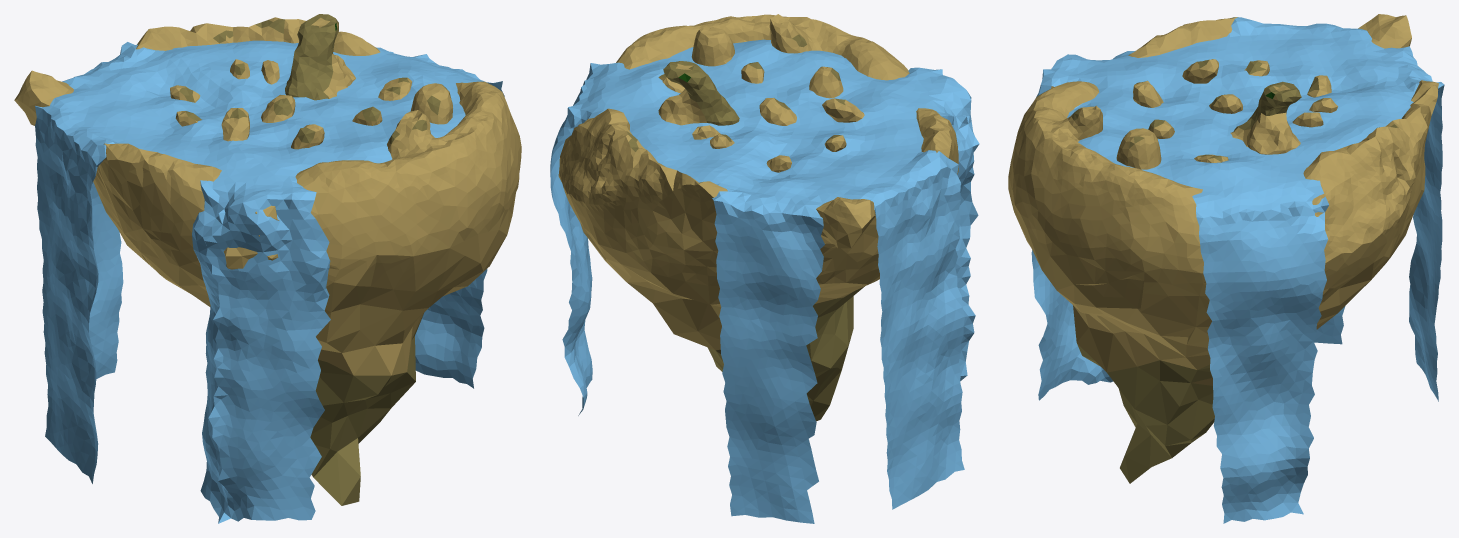
File: SandyShores.fbx
3 views of the same model, side by side, from view 1: azimuth 30°, elevation 25°; view 2: azimuth 150°, elevation 25°; view 3: azimuth 270°, elevation 25° (orthographic). The views are drawn at different scales.
Visible parts, largest first — view 1: Plane.001, Icosphere; view 2: Plane.001, Icosphere; view 3: Plane.001, Icosphere.
Part boxes in pixels (bbox=[...]): Plane.001: bbox=[35, 40, 504, 523]; Icosphere: bbox=[14, 14, 521, 505]; Plane.001: bbox=[550, 39, 979, 523]; Icosphere: bbox=[558, 14, 958, 421]; Plane.001: bbox=[1031, 17, 1444, 523]; Icosphere: bbox=[1008, 14, 1438, 483].
Size of the model in its own units: 39201 by 38573 by 36559.
